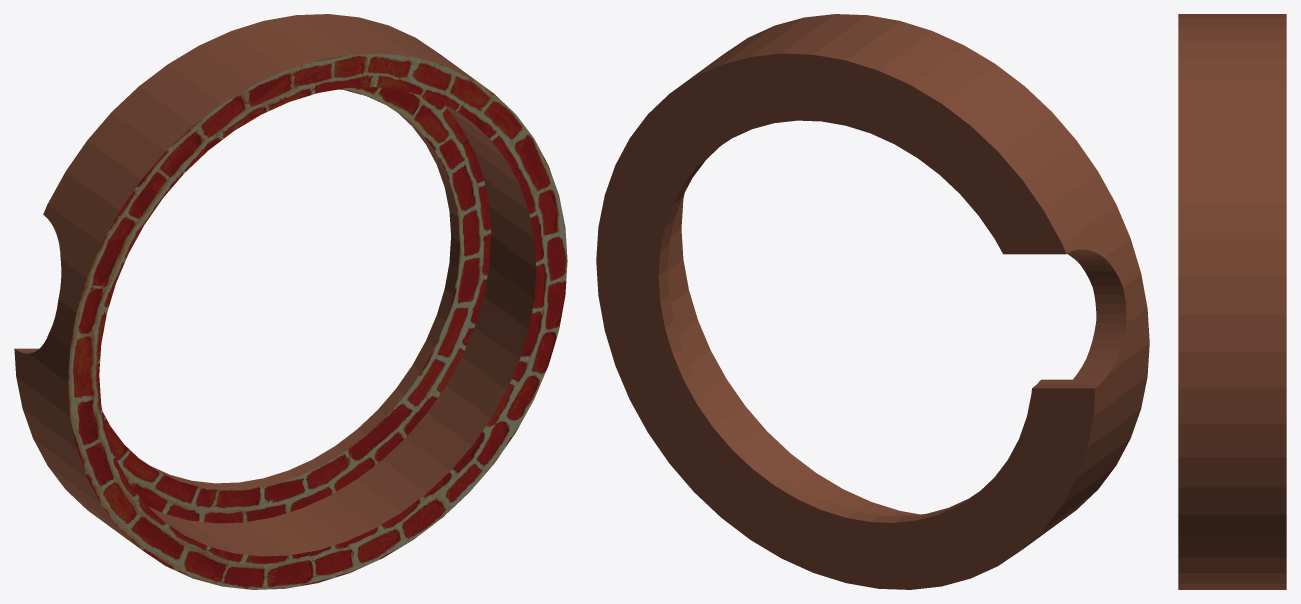
The model's file is pool_010.obj.
3 renders of one model, left to right at view 1: azimuth 30°, elevation 25°; view 2: azimuth 150°, elevation 25°; view 3: azimuth 270°, elevation 25°, orthographic.
Bounding box in the file's own units: 16 × 16 × 3.
Materials: 1 (1 with a texture image).
